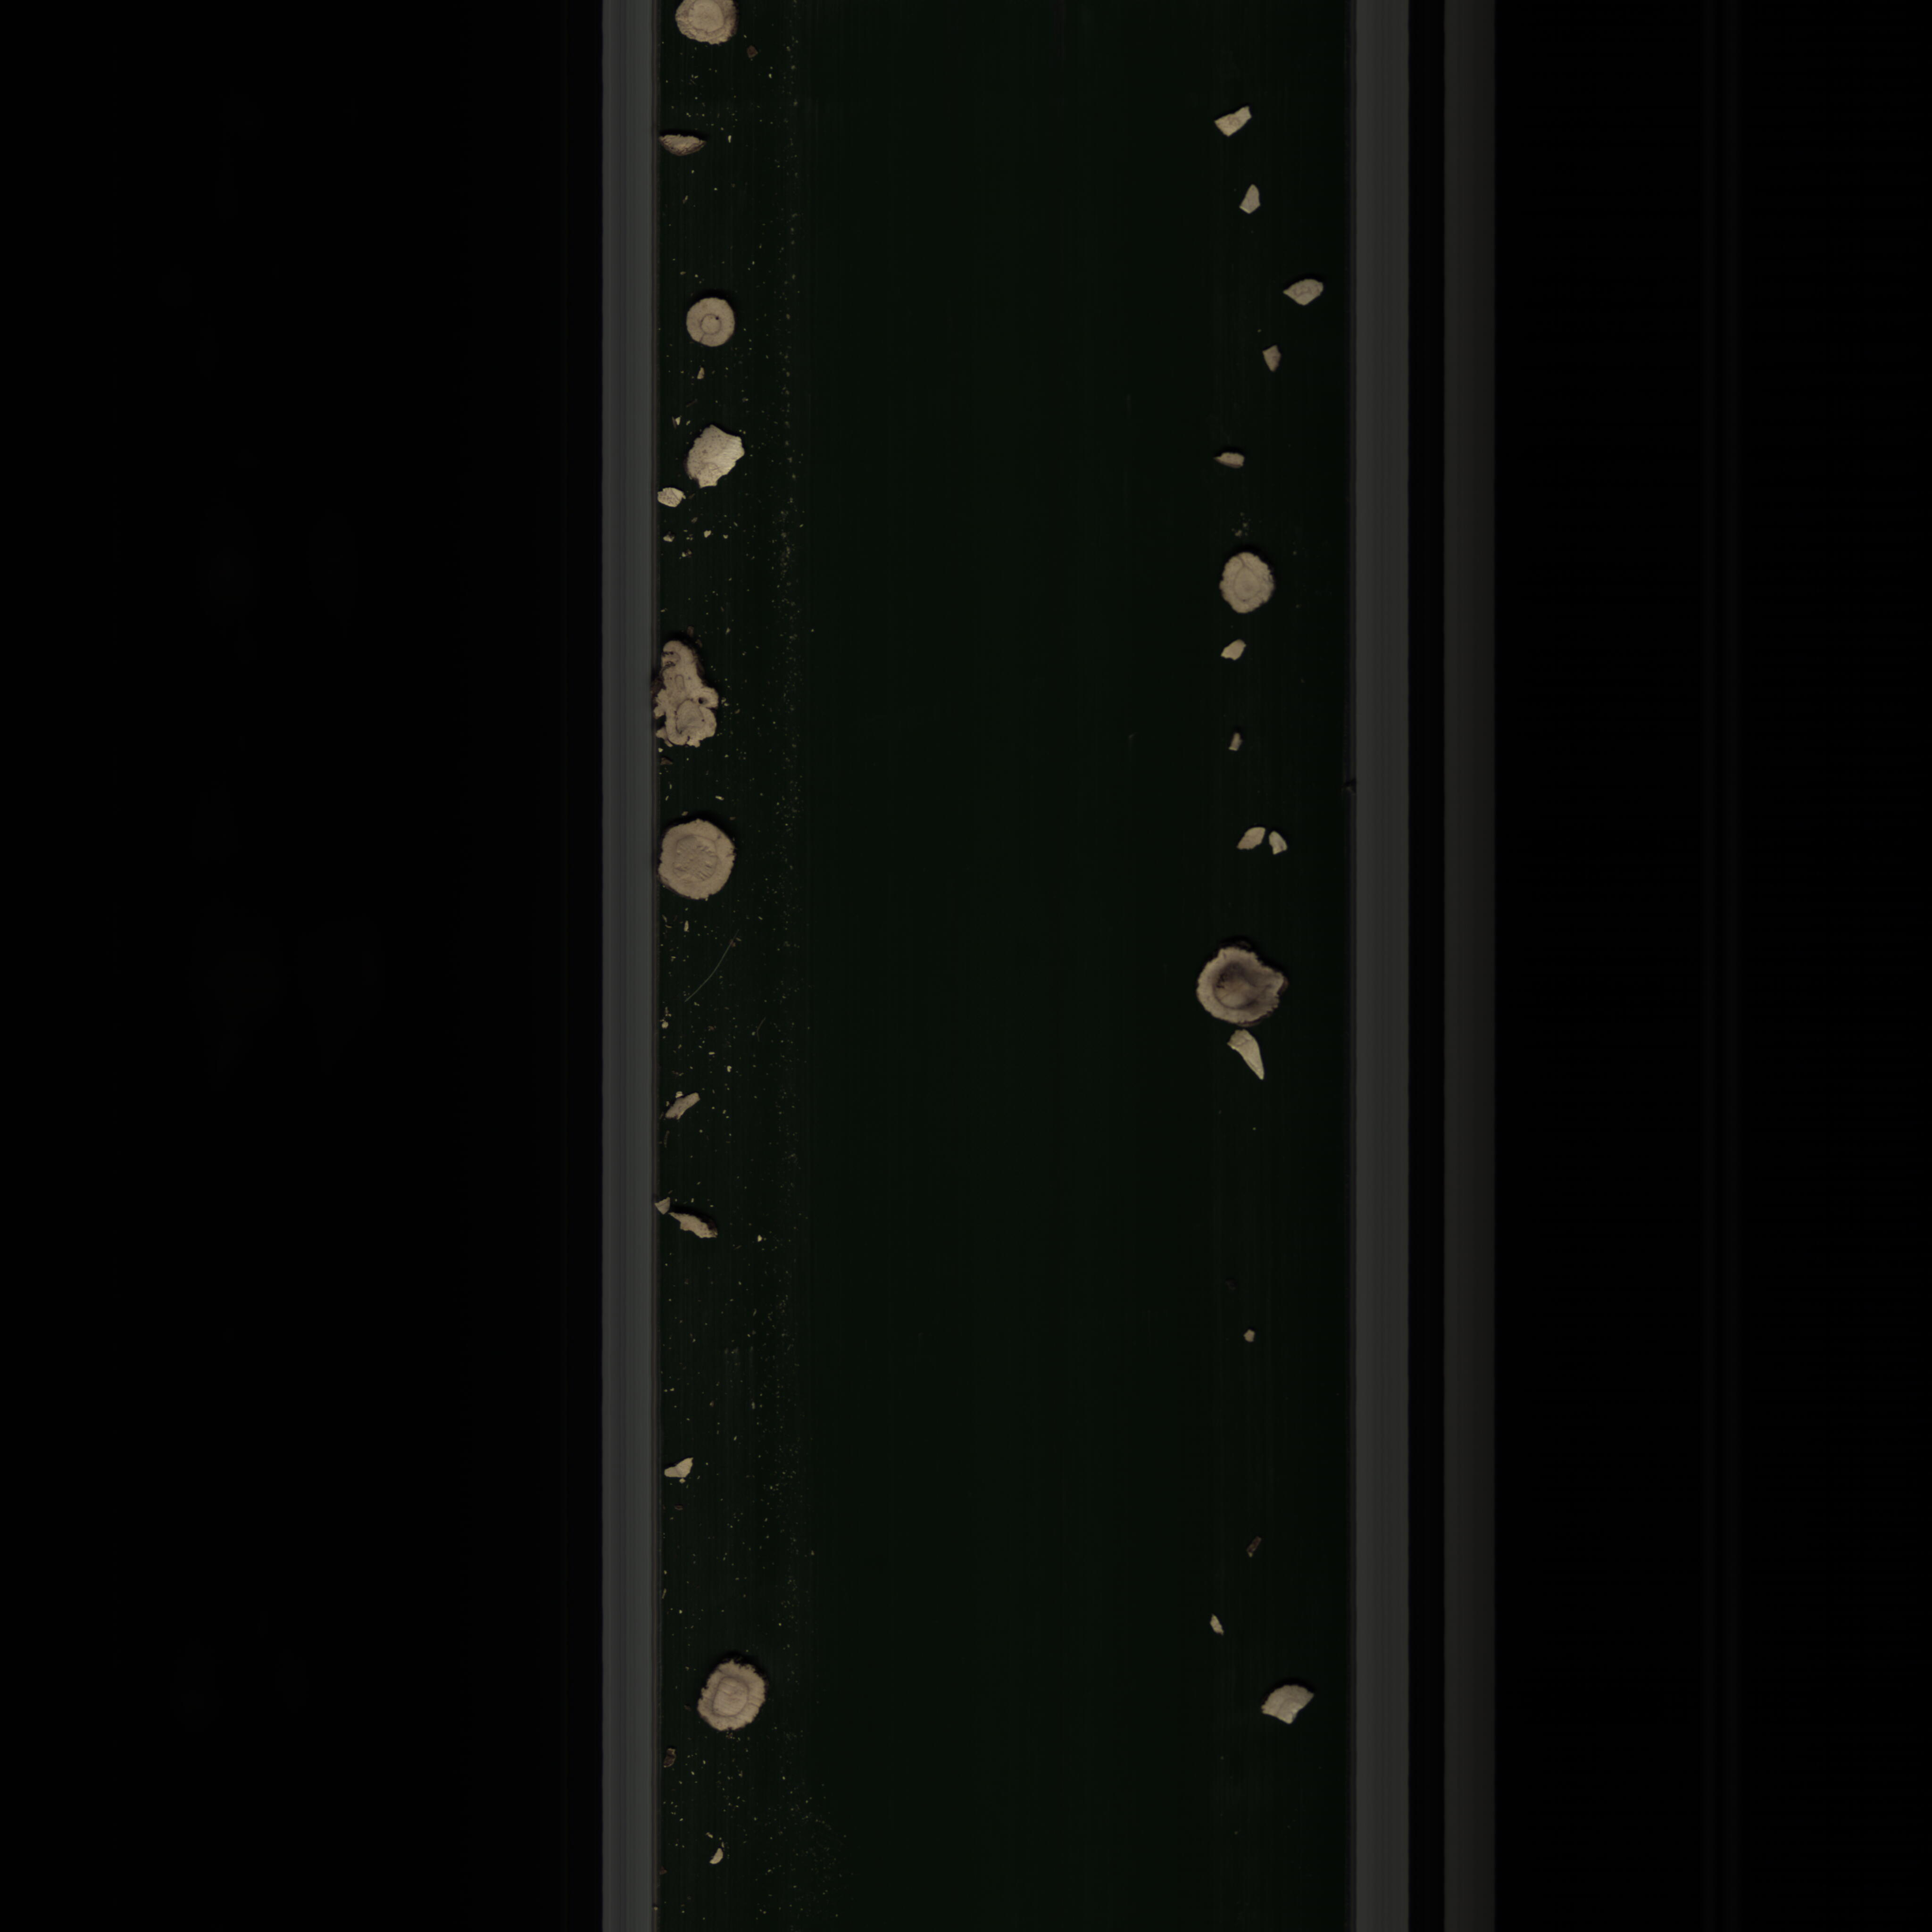debris: (683, 418, 757, 492), (1215, 1031, 1274, 1093), (1272, 271, 1336, 311), (1210, 103, 1269, 142), (660, 1081, 704, 1127), (1235, 180, 1277, 223), (660, 124, 711, 157), (1210, 444, 1254, 478), (1215, 637, 1253, 672), (1233, 819, 1267, 858), (1270, 830, 1304, 862), (1260, 340, 1281, 377)
distortion: (651, 628, 729, 759)
moldy: (1184, 943, 1297, 1028)
